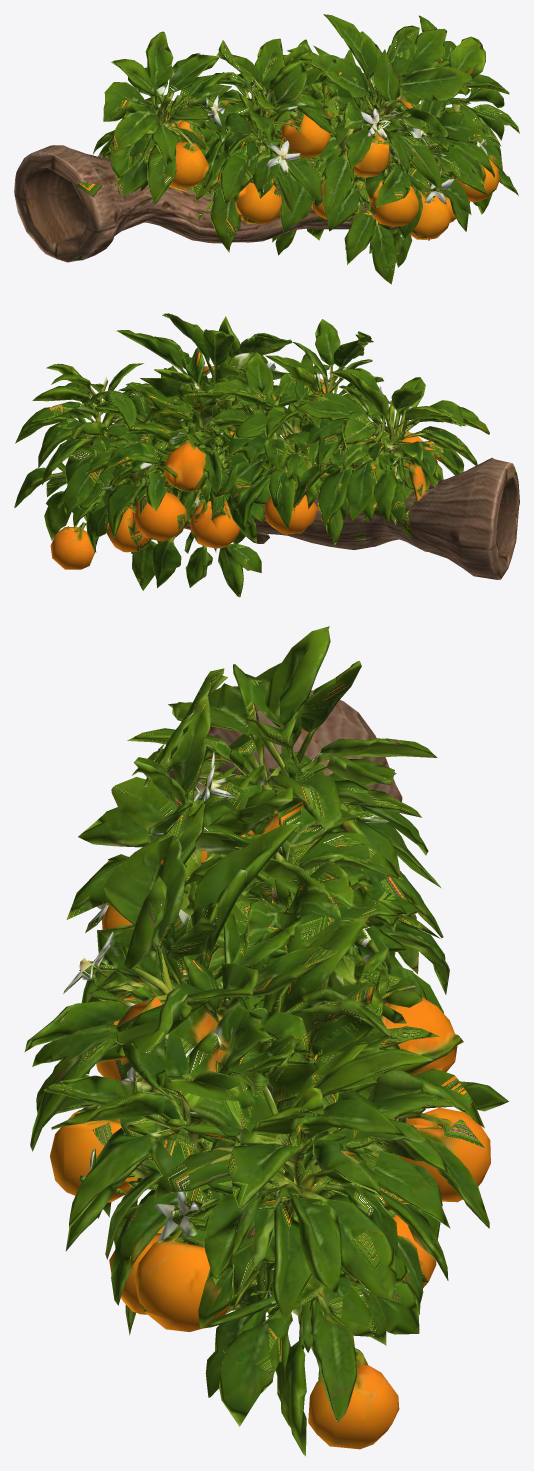
Rendered from branch_orange.glb.
The picture shows the model from 3 angles, top to bottom: view 1: azimuth 30°, elevation 25°; view 2: azimuth 150°, elevation 25°; view 3: azimuth 270°, elevation 25°; orthographic projection. The views are drawn at different scales.
Size of the model in its own units: 1.9 by 1.1 by 0.8369.
Materials: 1 (1 with a texture image).
